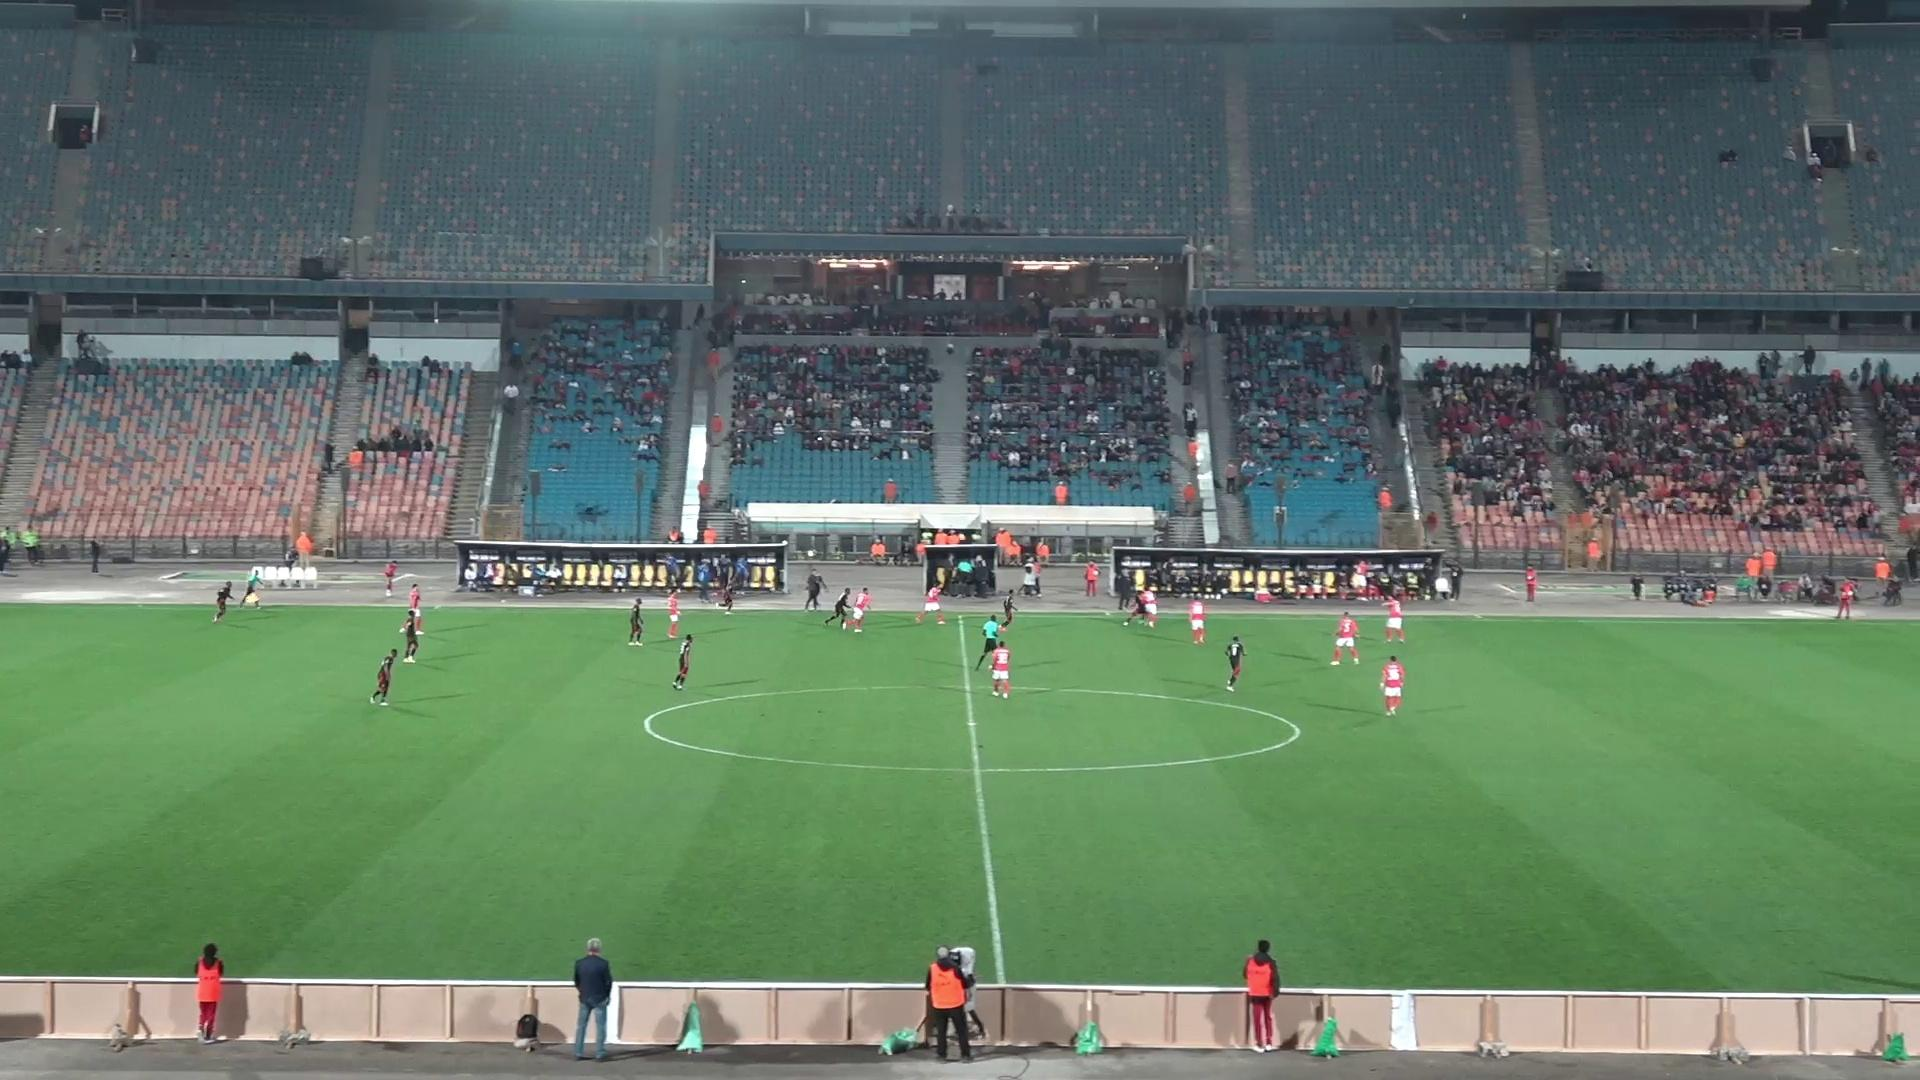Refree: (975, 615, 1011, 662)
Team1: (977, 641, 1011, 698), (836, 588, 873, 632), (1379, 655, 1406, 716), (1331, 611, 1360, 665), (916, 584, 945, 624), (237, 567, 265, 607), (1382, 593, 1404, 642), (1187, 596, 1207, 644), (666, 589, 682, 640), (1141, 583, 1158, 628), (407, 583, 423, 626)
Team2: (371, 645, 413, 705), (392, 611, 425, 663), (1224, 636, 1247, 691), (671, 636, 695, 690), (1125, 583, 1154, 626), (825, 588, 858, 626), (711, 576, 742, 613), (990, 595, 1019, 626), (211, 582, 233, 622), (626, 597, 645, 646)
